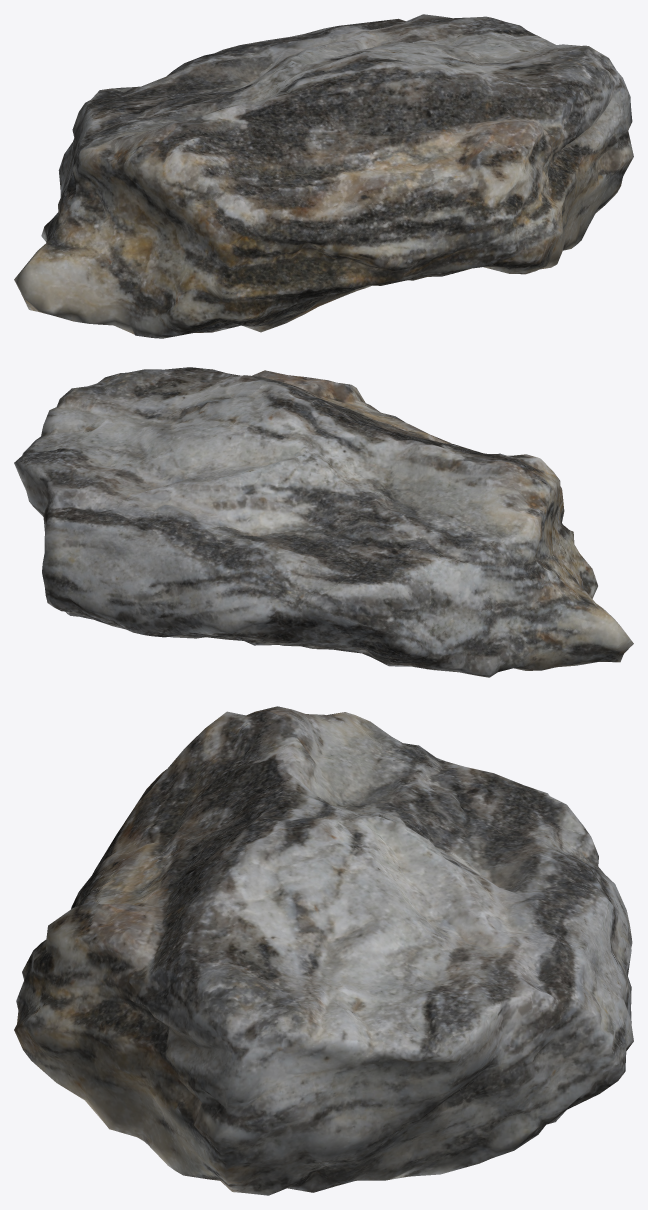
Rendered from rock.fbx.
The picture shows the model from 3 angles, top to bottom: view 1: azimuth 30°, elevation 25°; view 2: azimuth 150°, elevation 25°; view 3: azimuth 270°, elevation 25°; orthographic projection. The views are drawn at different scales.
Visible parts, largest first — view 1: stone_wood_petrified_xs_001_LOD1; view 2: stone_wood_petrified_xs_001_LOD1; view 3: stone_wood_petrified_xs_001_LOD1.
Boxes of the visible parts, box(x1,y1,x2,y2) form: stone_wood_petrified_xs_001_LOD1: box(14, 14, 633, 338); stone_wood_petrified_xs_001_LOD1: box(14, 367, 633, 677); stone_wood_petrified_xs_001_LOD1: box(14, 706, 633, 1195).
Bounding box in the file's own units: 686 × 232 × 487.
Materials: 1 (1 with a texture image).
